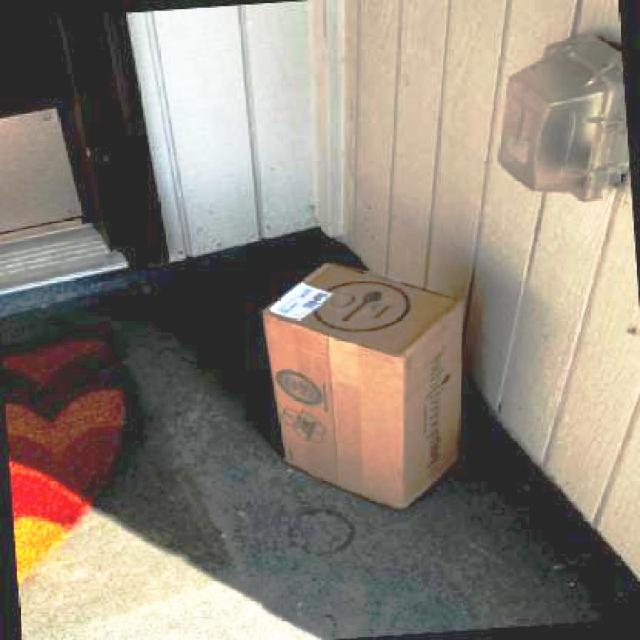Box: (260, 252, 482, 518)
